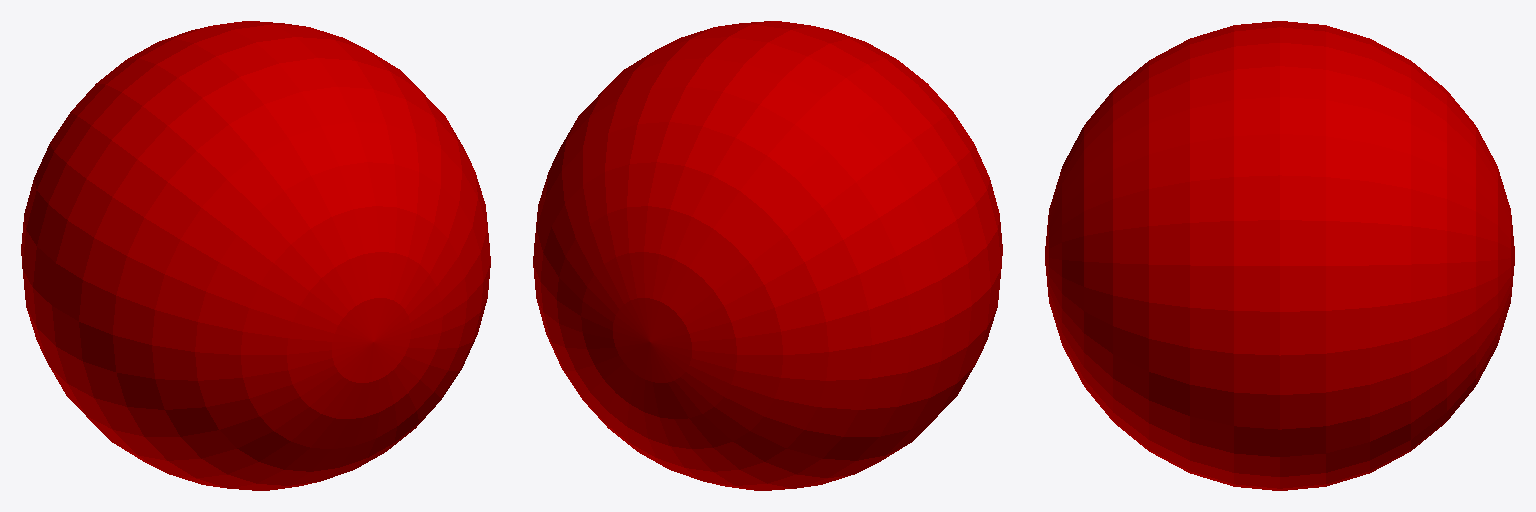
File: bullet.obj
3 views of the same model, side by side, from view 1: azimuth 30°, elevation 25°; view 2: azimuth 150°, elevation 25°; view 3: azimuth 270°, elevation 25° (orthographic).
Visible parts, largest first — view 1: Sphere; view 2: Sphere; view 3: Sphere.
Boxes of the visible parts, box(x1,y1,x2,y2) form: Sphere: box(21, 21, 490, 490); Sphere: box(533, 21, 1002, 490); Sphere: box(1045, 21, 1514, 490).
Bounding box in the file's own units: 0.2228 × 0.2228 × 0.2228.